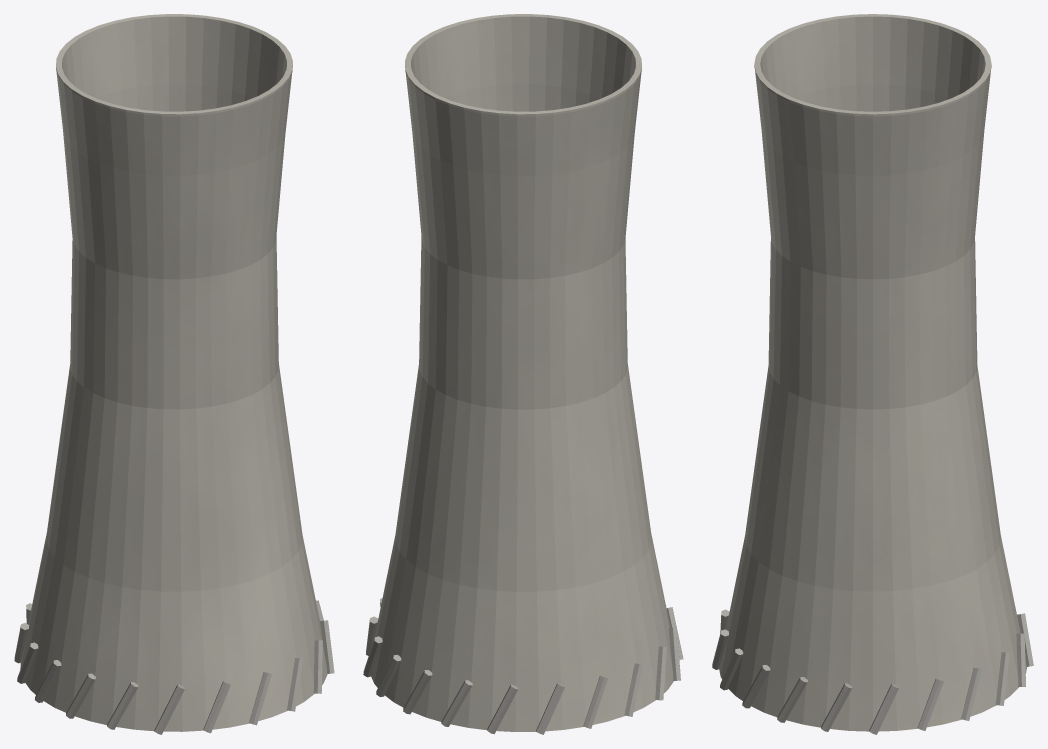
Rendered from pv_chladici_vez.glb.
The picture shows the model from 3 angles, left to right: view 1: azimuth 30°, elevation 25°; view 2: azimuth 150°, elevation 25°; view 3: azimuth 270°, elevation 25°; orthographic projection.
Visible parts, largest first — view 1: dum; view 2: dum; view 3: dum.
Boxes of the visible parts, x1=… form: dum: x1=14, y1=14, x2=334, y2=734; dum: x1=363, y1=14, x2=683, y2=734; dum: x1=712, y1=14, x2=1033, y2=734.
Size of the model in its own units: 13.56 by 28.02 by 13.51.
1 material, 1 textured.
